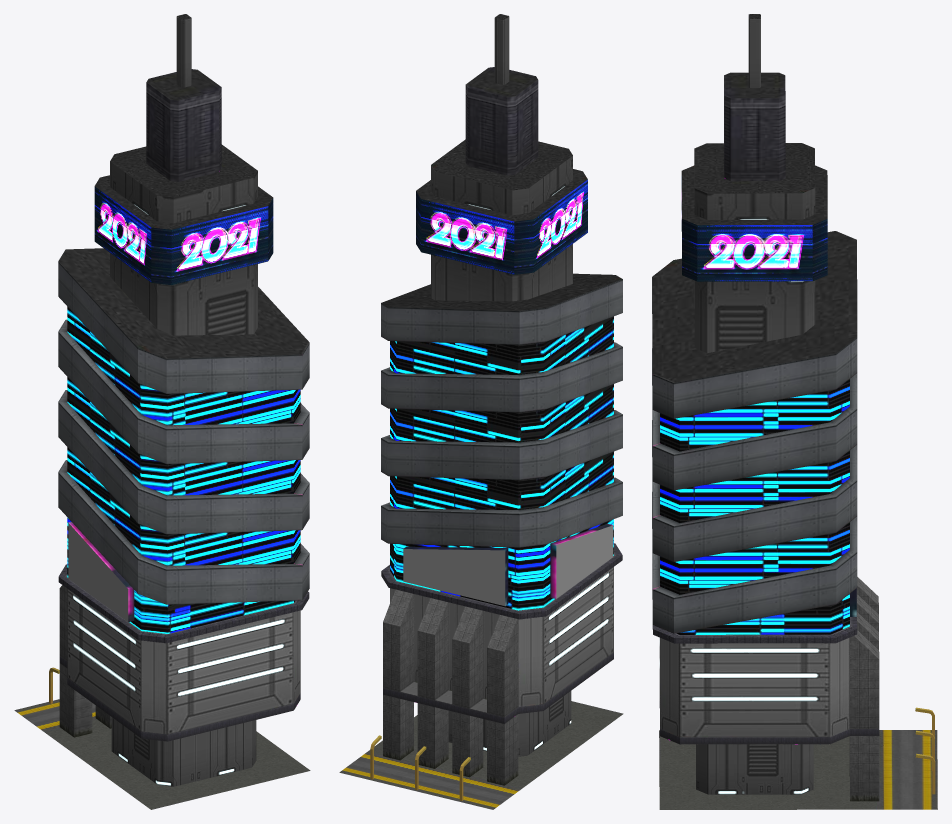
The model's file is BLD1310001.fbx.
The picture shows the model from 3 angles, left to right: view 1: azimuth 30°, elevation 25°; view 2: azimuth 150°, elevation 25°; view 3: azimuth 270°, elevation 25°; orthographic projection. The views are drawn at different scales.
Visible parts, largest first — view 1: smBLD1310001; view 2: smBLD1310001; view 3: smBLD1310001.
Boxes of the visible parts, box(x1,y1,x2,y2) form: smBLD1310001: box(14, 14, 310, 809); smBLD1310001: box(339, 14, 623, 809); smBLD1310001: box(652, 14, 937, 809).
Size of the model in its own units: 467 by 1916 by 658.
2 materials, 1 textured.
